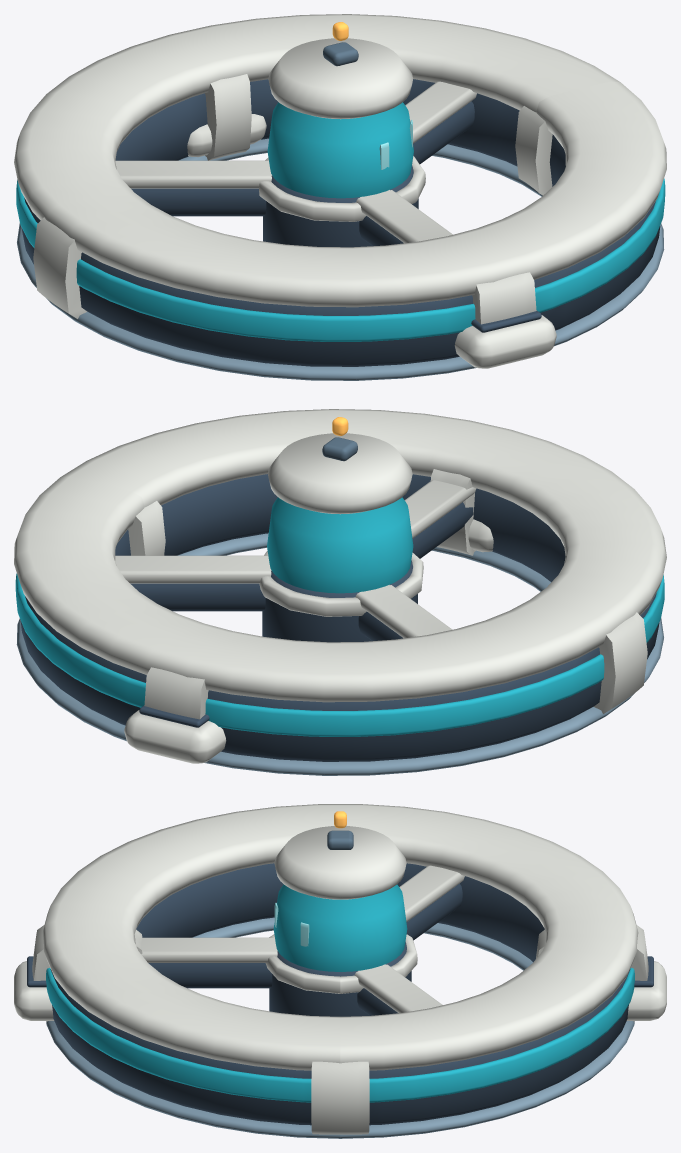
Rendered from colony_ring_lv2.glb.
The picture shows the model from 3 angles, top to bottom: view 1: azimuth 30°, elevation 25°; view 2: azimuth 150°, elevation 25°; view 3: azimuth 270°, elevation 25°; orthographic projection. The views are drawn at different scales.
Visible parts, largest first — view 1: Structure; view 2: Structure; view 3: Structure.
Boxes of the visible parts, x1=… form: Structure: x1=14, y1=14, x2=666, y2=380; Structure: x1=14, y1=409, x2=666, y2=775; Structure: x1=14, y1=804, x2=666, y2=1138.
Size of the model in its own units: 8.37 by 3.39 by 8.86.
